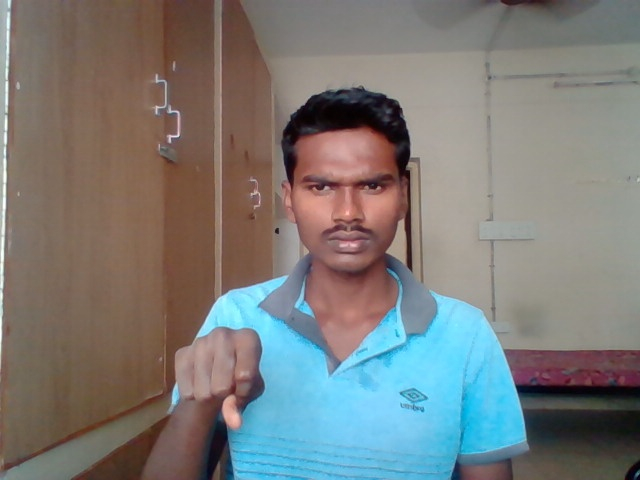Thank You: (171, 323, 269, 432)
